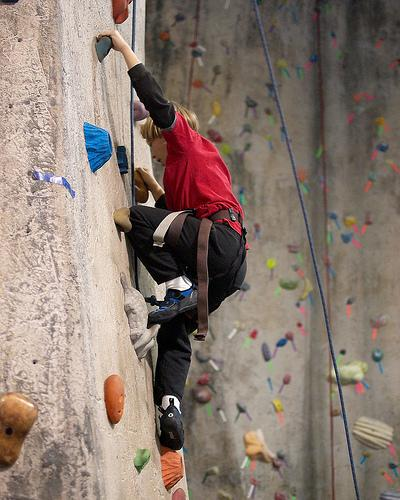person: (95, 29, 250, 454)
